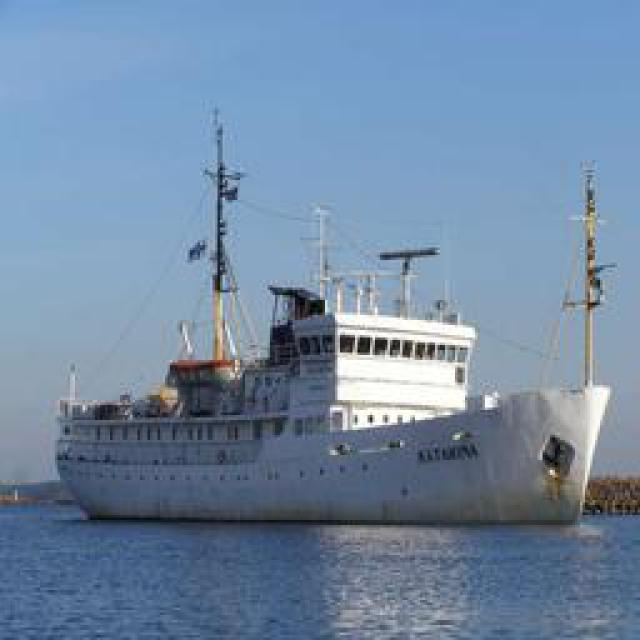Ship: (55, 91, 605, 526)
